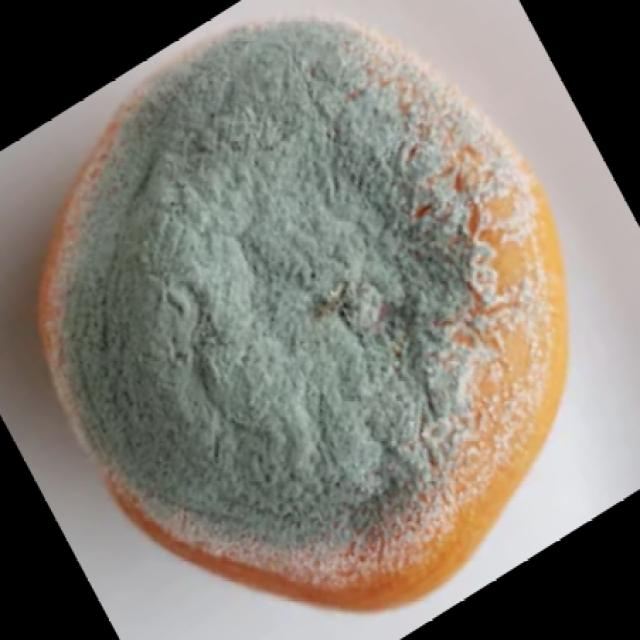sangat_busuk: (44, 13, 560, 609)
